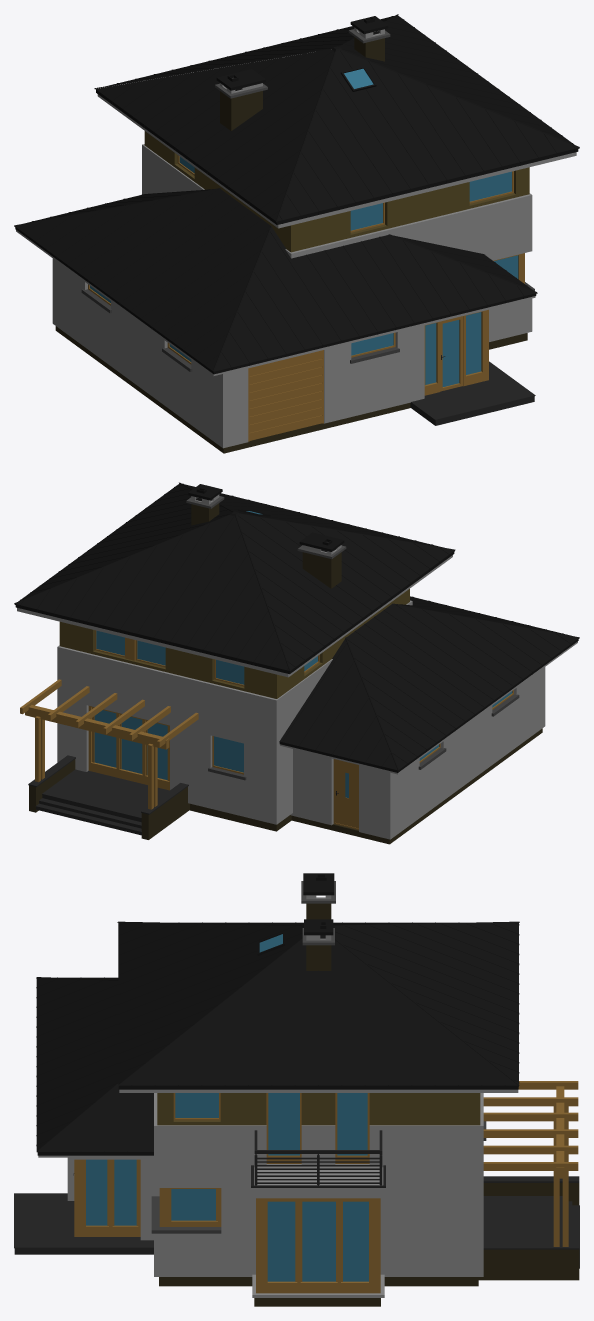
File: bambo-house.glb
3 renders of one model, top to bottom at view 1: azimuth 30°, elevation 25°; view 2: azimuth 150°, elevation 25°; view 3: azimuth 270°, elevation 25°, orthographic. The views are drawn at different scales.
Size of the model in its own units: 13.48 by 9 by 14.54.
